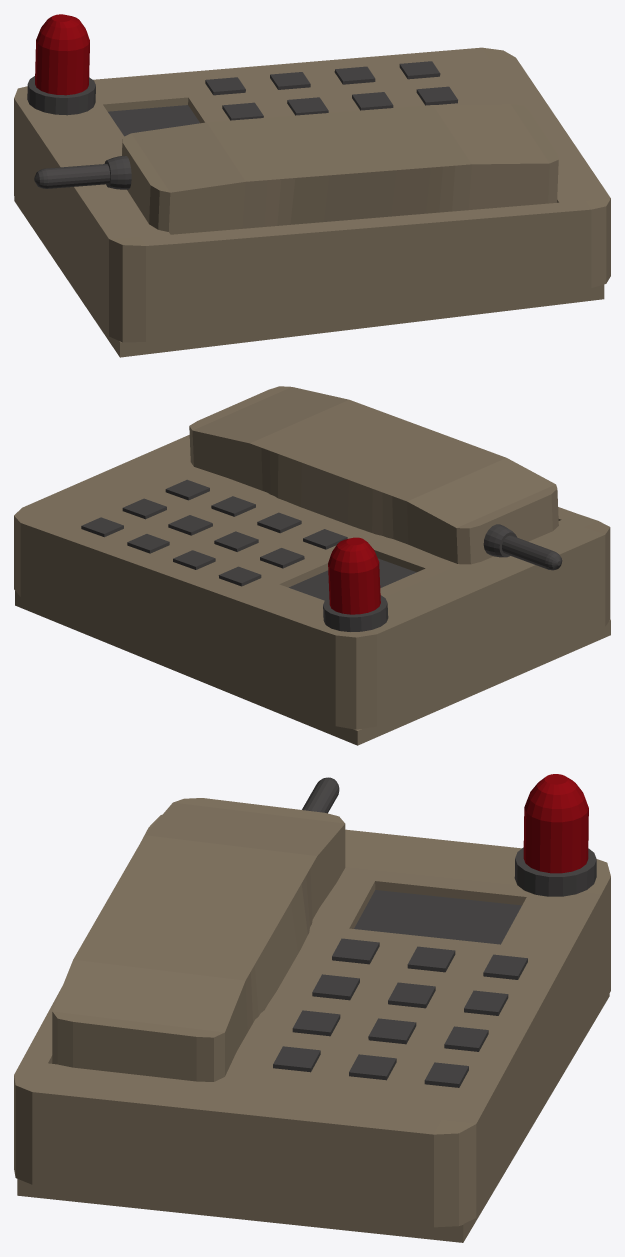
The model's file is telefon.fbx.
3 renders of one model, top to bottom at view 1: azimuth 30°, elevation 25°; view 2: azimuth 150°, elevation 25°; view 3: azimuth 270°, elevation 25°, orthographic. The views are drawn at different scales.
Visible parts, largest first — view 1: telefon, telefon trubka; view 2: telefon, telefon trubka; view 3: telefon, telefon trubka.
Boxes of the visible parts, x1=… form: telefon: x1=14, y1=14, x2=610, y2=357; telefon trubka: x1=34, y1=104, x2=558, y2=234; telefon: x1=14, y1=435, x2=610, y2=745; telefon trubka: x1=189, y1=386, x2=562, y2=570; telefon: x1=14, y1=774, x2=610, y2=1242; telefon trubka: x1=52, y1=777, x2=345, y2=1081.
Size of the model in its own units: 7.35 by 2.59 by 6.06.
